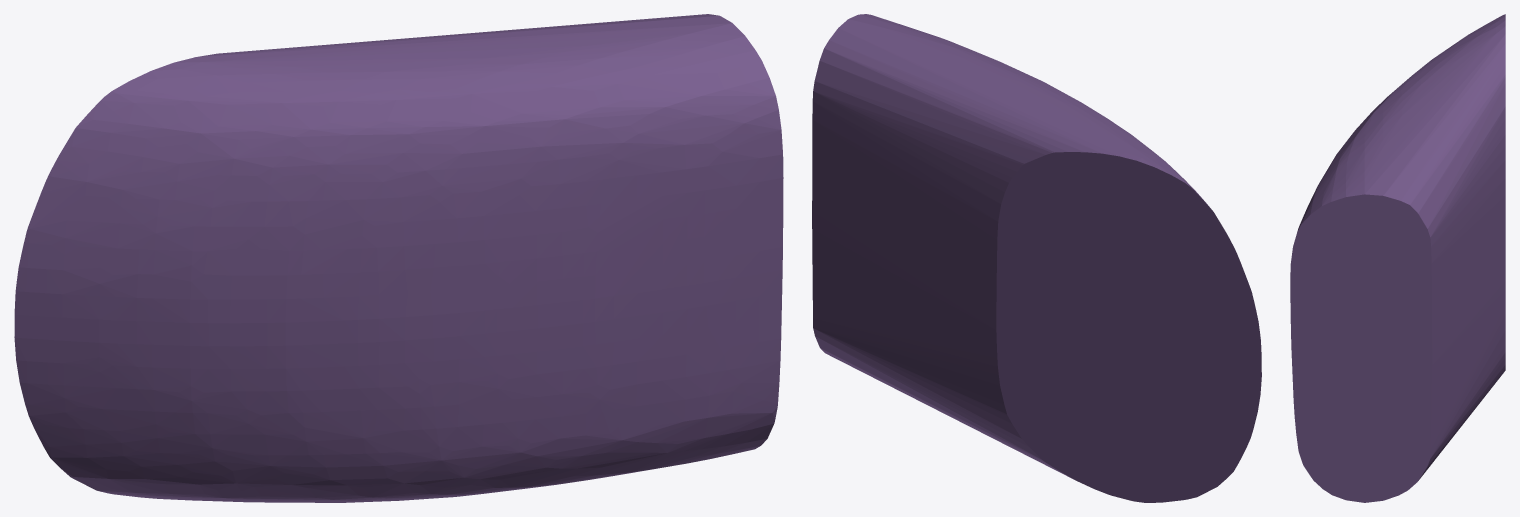
The picture shows the model from 3 angles, left to right: view 1: azimuth 30°, elevation 25°; view 2: azimuth 150°, elevation 25°; view 3: azimuth 270°, elevation 25°; orthographic projection. The views are drawn at different scales.
Bounding box in the file's own units: 0.0477 × 0.0318 × 0.0195.
